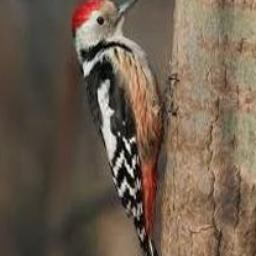Woodpecker: (72, 0, 178, 256)
